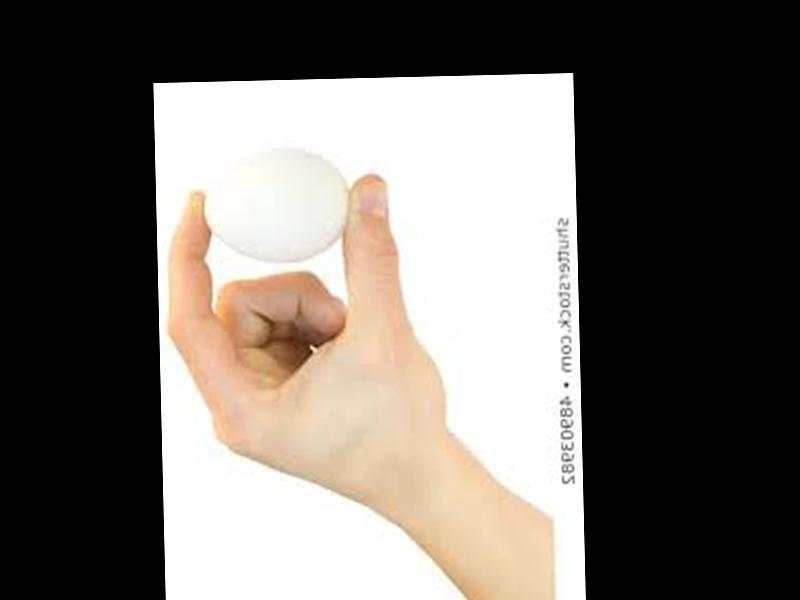Eggs: (203, 150, 352, 265)
